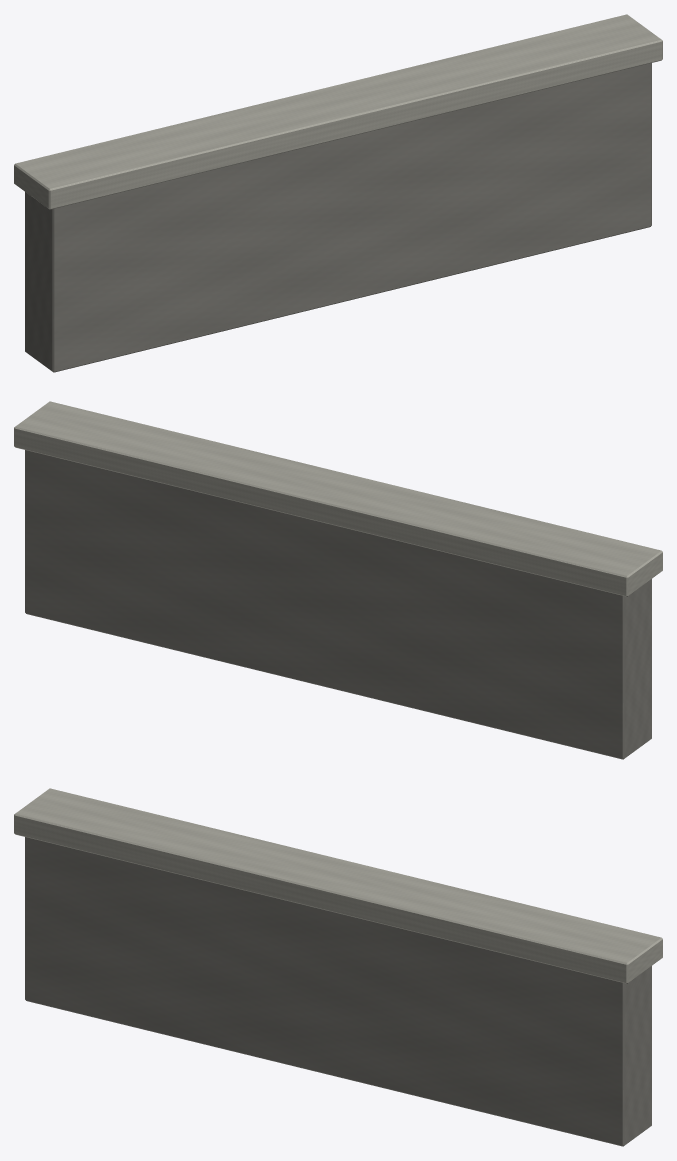
Rendered from U07_RoofParapet_visual.glb.
The picture shows the model from 3 angles, top to bottom: view 1: azimuth 30°, elevation 25°; view 2: azimuth 150°, elevation 25°; view 3: azimuth 330°, elevation 25°; orthographic projection.
Parts seen in each view (by area): view 1: U07_RoofParapet__VIS_shell; view 2: U07_RoofParapet__VIS_shell; view 3: U07_RoofParapet__VIS_shell.
Boxes of the visible parts, x1=… form: U07_RoofParapet__VIS_shell: x1=14, y1=14, x2=662, y2=372; U07_RoofParapet__VIS_shell: x1=14, y1=401, x2=662, y2=759; U07_RoofParapet__VIS_shell: x1=14, y1=788, x2=662, y2=1146.
Bounding box in the file's own units: 12.3 × 3.6 × 1.25.
1 material, 1 textured.
